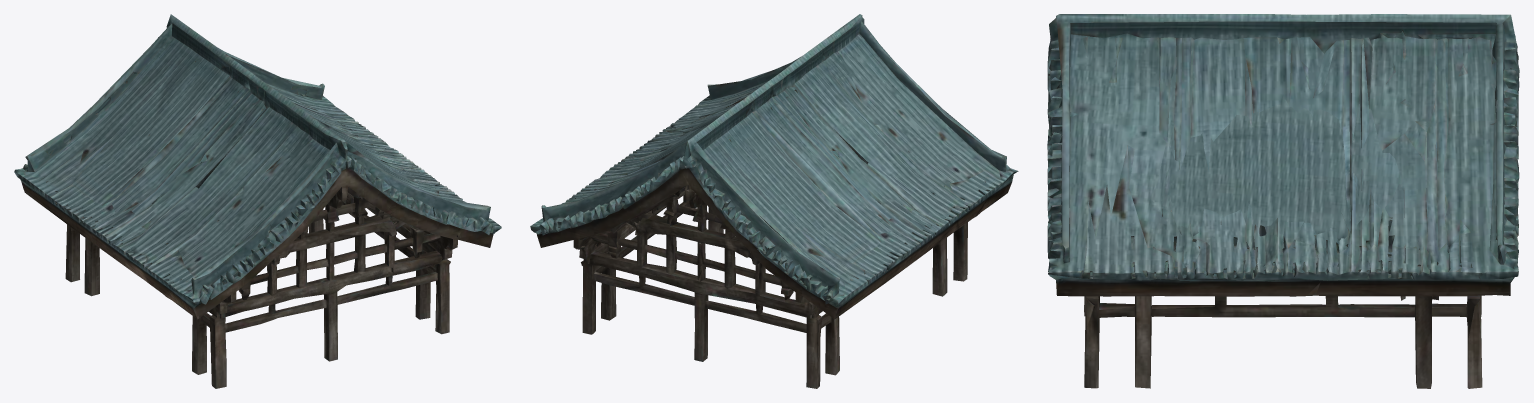
The model's file is ARCH-012.glb.
The picture shows the model from 3 angles, left to right: view 1: azimuth 30°, elevation 25°; view 2: azimuth 150°, elevation 25°; view 3: azimuth 270°, elevation 25°; orthographic projection. The views are drawn at different scales.
Bounding box in the file's own units: 4.46 × 3.16 × 4.51.
1 material, 1 textured.
